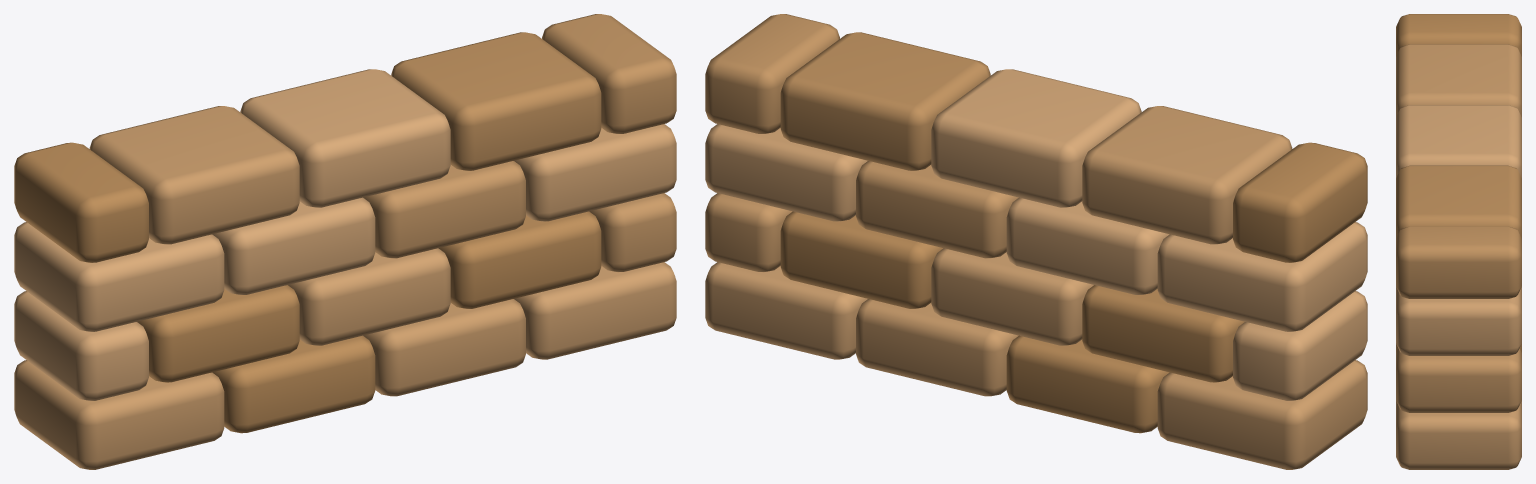
The model's file is NJD-07.glb.
The picture shows the model from 3 angles, left to right: view 1: azimuth 30°, elevation 25°; view 2: azimuth 150°, elevation 25°; view 3: azimuth 270°, elevation 25°; orthographic projection. The views are drawn at different scales.
Parts seen in each view (by area): view 1: rounded adobe block.015, rounded adobe block.016, rounded adobe block.014, rounded adobe block, rounded adobe block.009, rounded adobe block.013, rounded adobe block.001, rounded adobe block.007, rounded adobe block.010, rounded adobe block.006, rounded adobe block.003, rounded adobe block.005 (+6 smaller); view 2: rounded adobe block.015, rounded adobe block.016, rounded adobe block.014, rounded adobe block, rounded adobe block.009, rounded adobe block.013, rounded adobe block.001, rounded adobe block.007, rounded adobe block.010, rounded adobe block.006, rounded adobe block.003, rounded adobe block.005 (+6 smaller); view 3: rounded adobe block.017, rounded adobe block.016, rounded adobe block.015, rounded adobe block.014, rounded adobe block.003, rounded adobe block.012, rounded adobe block.008, rounded adobe block.013.
Boxes of the visible parts, box(x1,y1,x2,y2) form: rounded adobe block.015: box(240, 69, 450, 207); rounded adobe block.016: box(391, 32, 601, 170); rounded adobe block.014: box(89, 106, 299, 244); rounded adobe block: box(14, 360, 224, 469); rounded adobe block.009: box(14, 222, 224, 331); rounded adobe block.013: box(14, 142, 148, 262); rounded adobe block.001: box(212, 335, 375, 433); rounded adobe block.007: box(438, 211, 601, 308); rounded adobe block.010: box(212, 197, 375, 294); rounded adobe block.006: box(288, 248, 450, 345); rounded adobe block.003: box(514, 262, 676, 359); rounded adobe block.005: box(137, 285, 299, 382); rounded adobe block.015: box(931, 69, 1141, 207); rounded adobe block.016: box(780, 32, 990, 170); rounded adobe block.014: box(1082, 106, 1292, 244); rounded adobe block: box(1157, 360, 1367, 469); rounded adobe block.009: box(1157, 222, 1367, 331); rounded adobe block.013: box(1233, 142, 1367, 262); rounded adobe block.001: box(1006, 335, 1169, 433); rounded adobe block.007: box(780, 211, 943, 308); rounded adobe block.010: box(1006, 197, 1169, 294); rounded adobe block.006: box(931, 248, 1093, 345); rounded adobe block.003: box(705, 262, 867, 359); rounded adobe block.005: box(1082, 285, 1244, 382); rounded adobe block.017: box(1396, 226, 1521, 298); rounded adobe block.016: box(1396, 165, 1521, 238); rounded adobe block.015: box(1396, 105, 1521, 177); rounded adobe block.014: box(1396, 44, 1521, 117); rounded adobe block.003: box(1396, 400, 1521, 469); rounded adobe block.012: box(1396, 286, 1521, 355); rounded adobe block.008: box(1396, 348, 1521, 412); rounded adobe block.013: box(1396, 14, 1521, 56).
Bounding box in the file's own units: 1.91 × 0.83 × 0.42.
